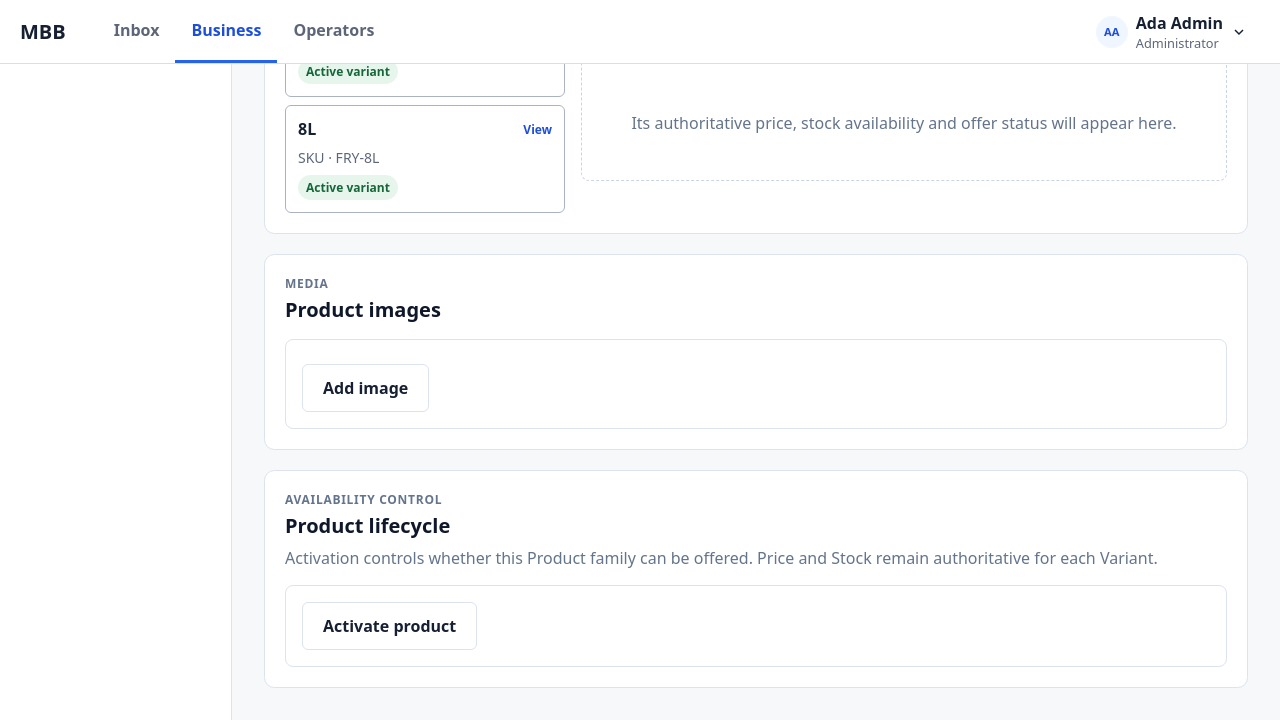
Test: Product lifecycle controls › loads additional Product facts by page before enabling confirmation
(page scrolled)
Click the button "Activate product": (390, 626) [302,602,477,650]
(page scrolled)
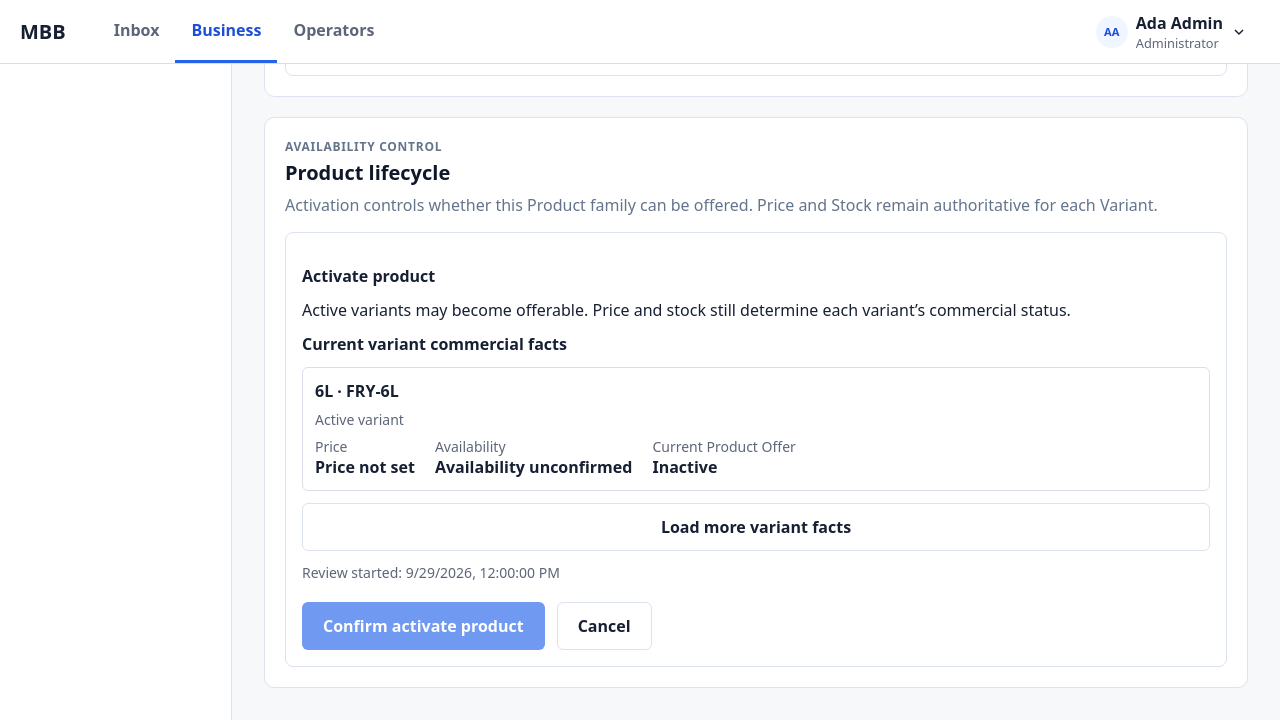
Expected: the button "Confirm activate product" is disabled, [302,602,545,650]
Click the button "Load more variant facts": (756, 527) [302,503,1210,551]
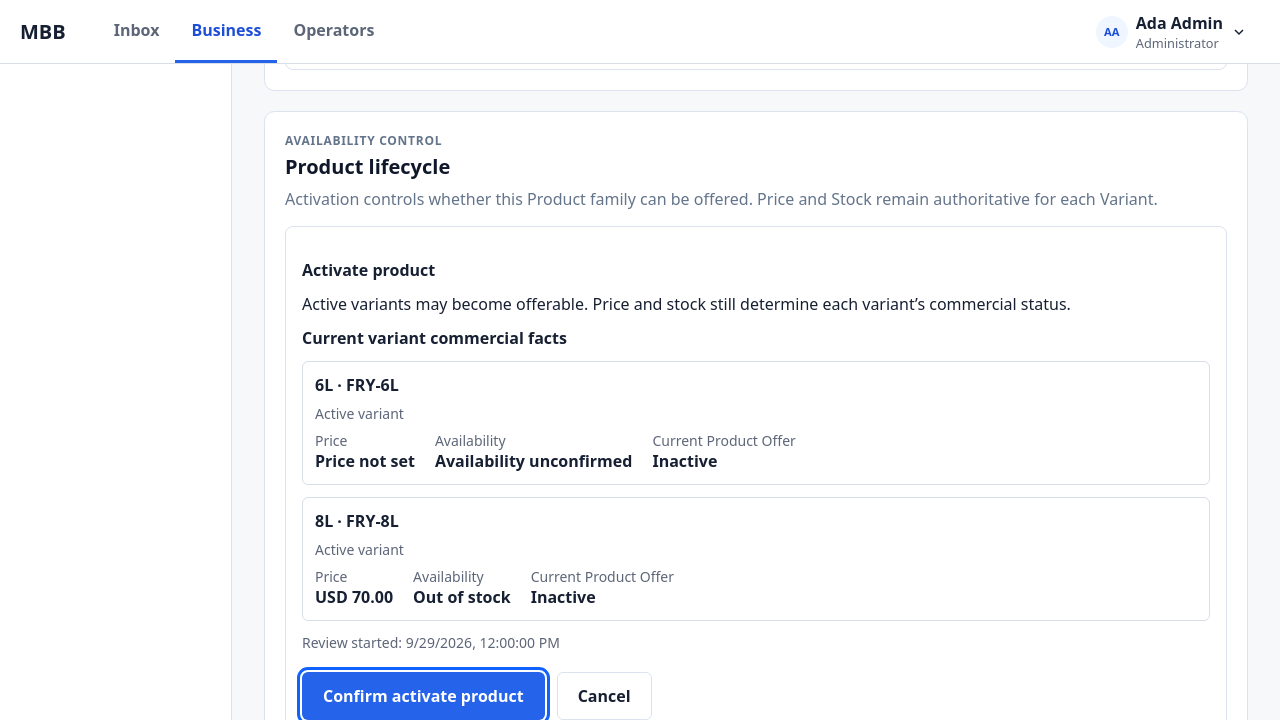
Expected: the text "8L · FRY-8L" is shown, [315,510,399,532]
Expected: the button "Confirm activate product" is enabled, [302,672,545,719]
